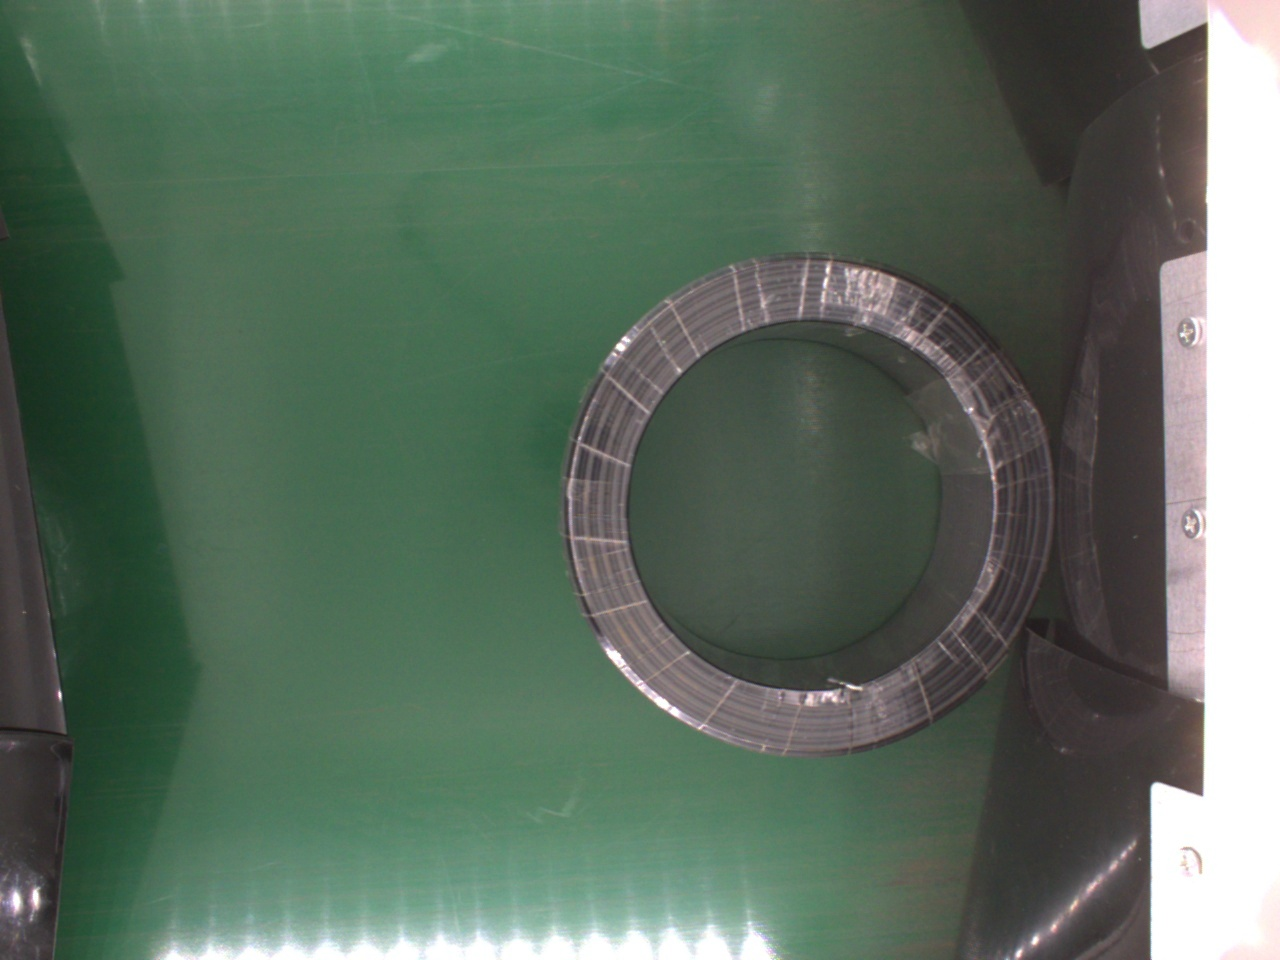black: (567, 253, 1048, 764)
